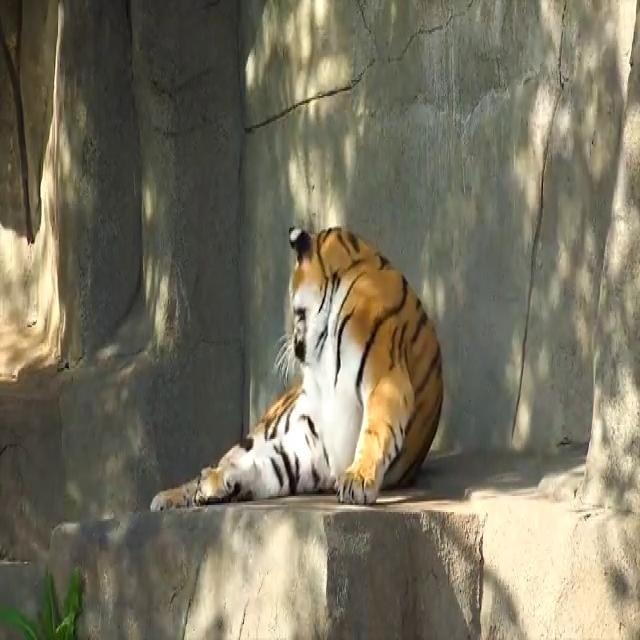tiger: (151, 222, 446, 508)
